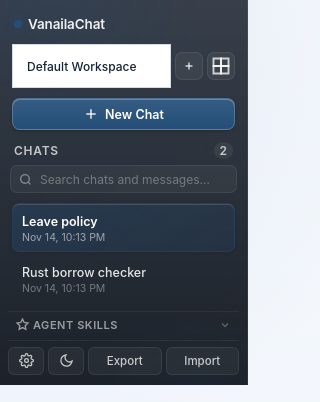
Sidebar › filters by title immediately
This screenshot has width=320, height=402.
Type "rust" into the search field with placeholder "Search chats and messages…".
click(133, 179); type("rust")  # box [38,170,228,188]
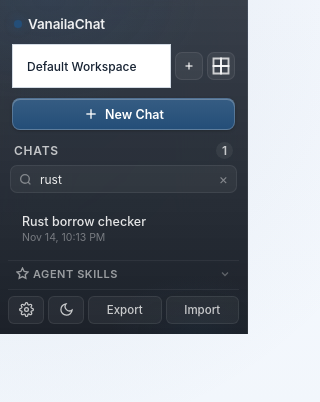
Check: the text "Rust borrow checker" is shown, box [22,214,146,229]
Check: the button "Leave policy" is gone
